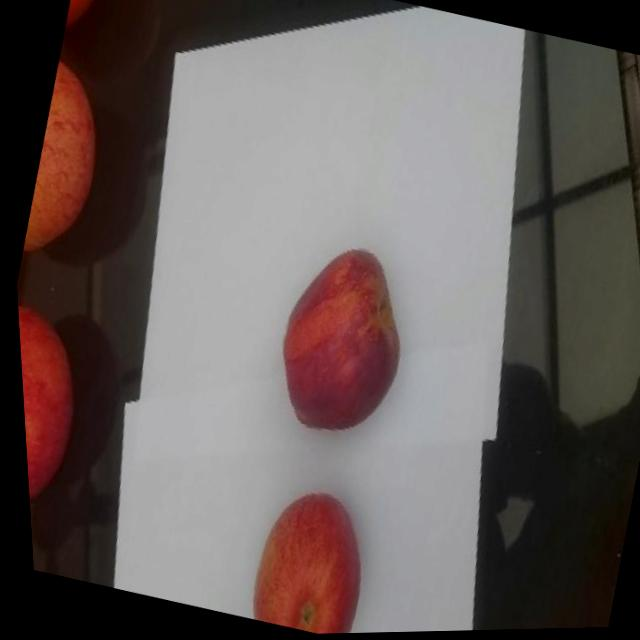Apple: (254, 234, 423, 447), (10, 58, 121, 264), (233, 479, 375, 636), (14, 301, 97, 528)
Orange: (63, 0, 117, 34)
